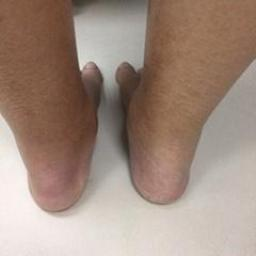Back View -Both Feet-: (6, 42, 225, 225)
